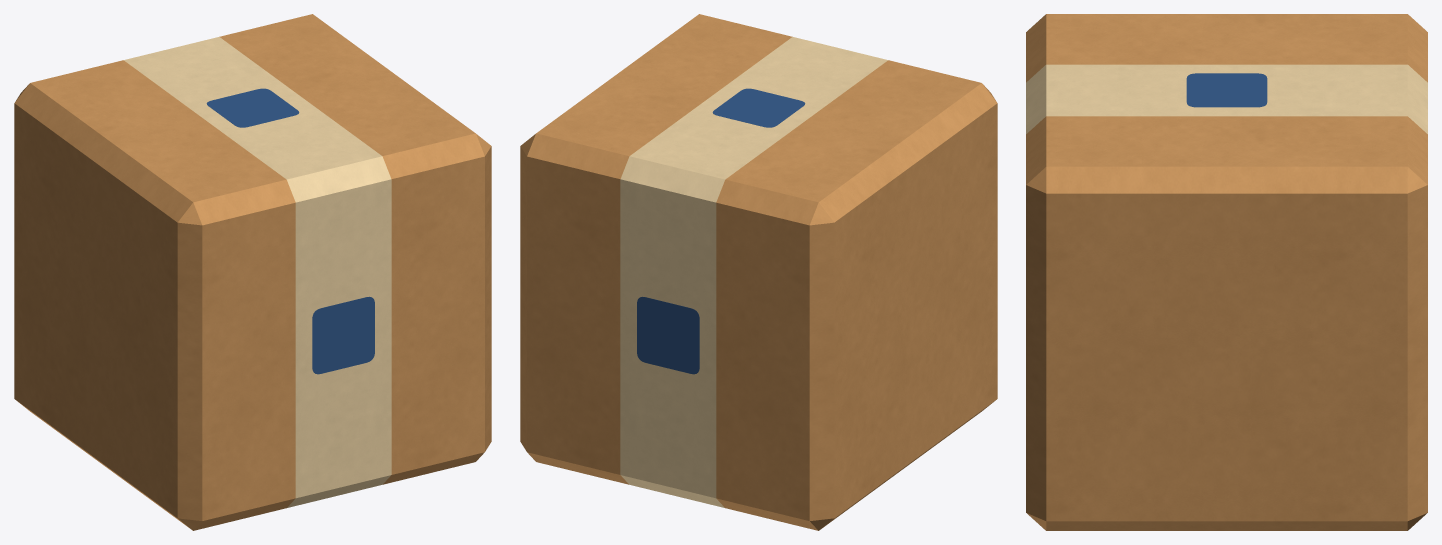
The model's file is parcel_blue.glb.
3 views of the same model, side by side, from view 1: azimuth 30°, elevation 25°; view 2: azimuth 150°, elevation 25°; view 3: azimuth 270°, elevation 25° (orthographic). The views are drawn at different scales.
Parts seen in each view (by area): view 1: parcel_blue; view 2: parcel_blue; view 3: parcel_blue.
Part boxes in pixels (<box>): parcel_blue: <box>14,14,491,530</box>; parcel_blue: <box>520,14,997,530</box>; parcel_blue: <box>1026,14,1427,530</box>.
Size of the model in its own units: 0.4 by 0.4001 by 0.4002.
Materials: 3 (2 with a texture image).
